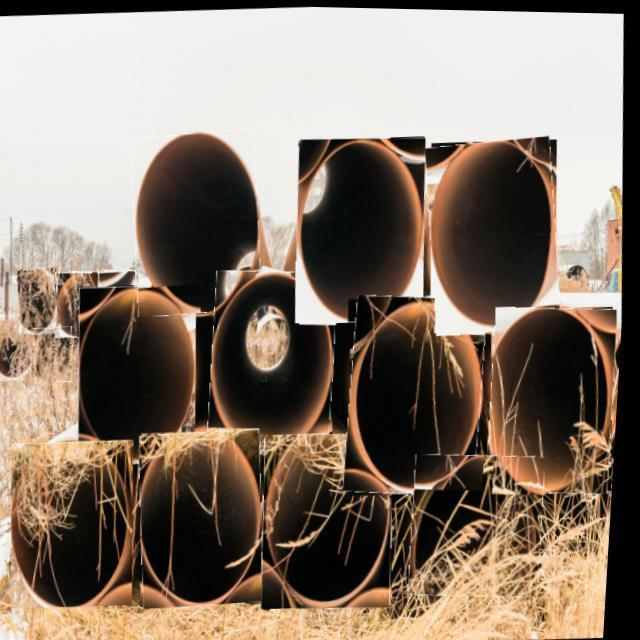pipe: (349, 293, 491, 494), (427, 133, 564, 334), (133, 128, 265, 316), (492, 305, 620, 491), (212, 270, 341, 454), (300, 136, 427, 322), (269, 431, 399, 608), (145, 427, 271, 608), (83, 284, 201, 464), (18, 439, 139, 608), (416, 453, 550, 595), (21, 268, 63, 334), (60, 273, 102, 337), (38, 326, 77, 383), (0, 321, 36, 381), (103, 271, 138, 301)
